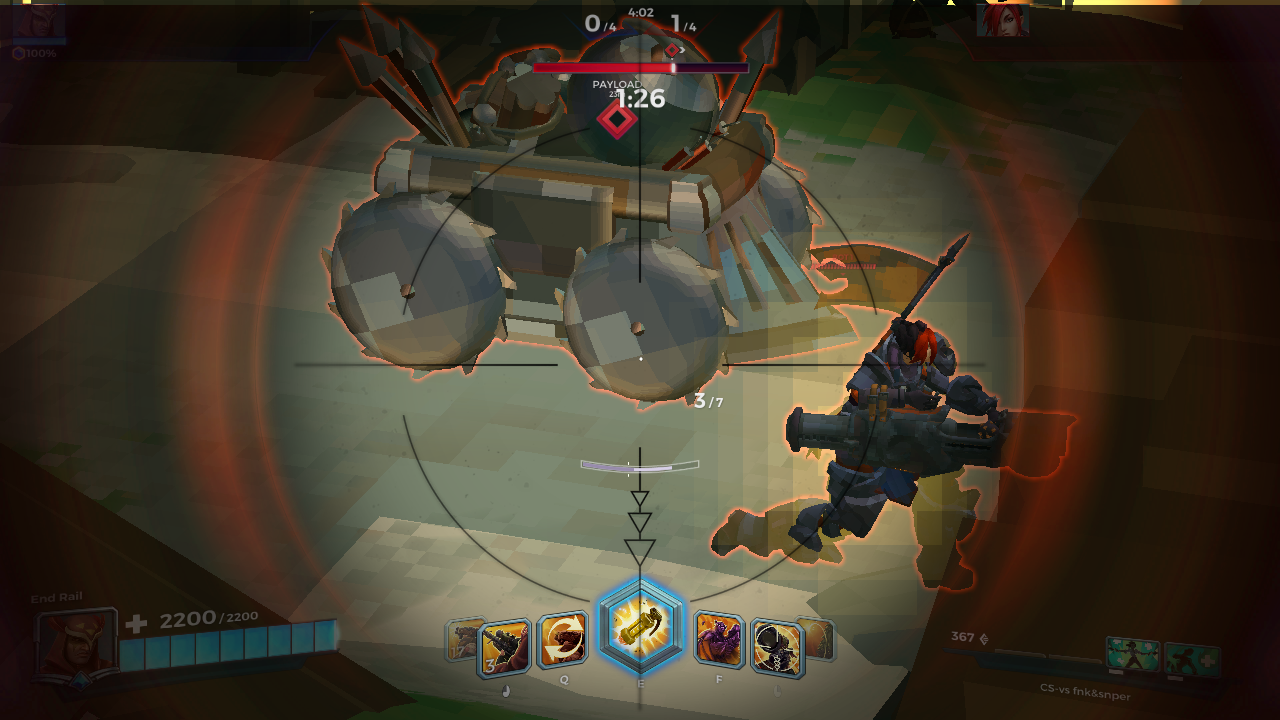model: (709, 289, 1079, 597)
